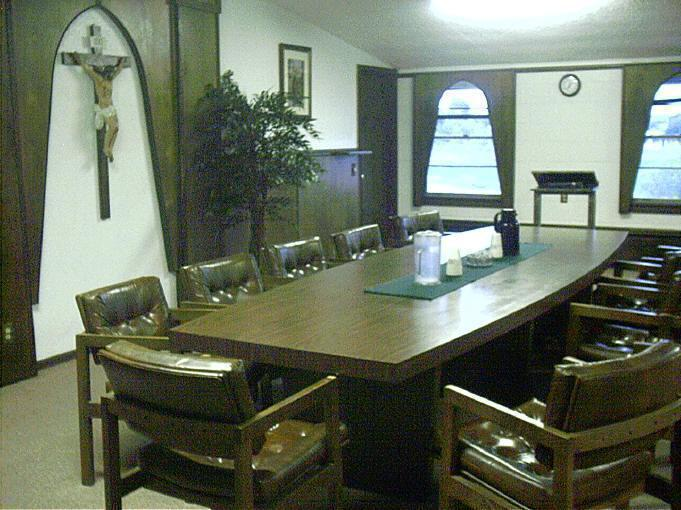Otro Obstaculo: (533, 158, 600, 229)
Ventana: (428, 80, 508, 201), (623, 73, 680, 203)
